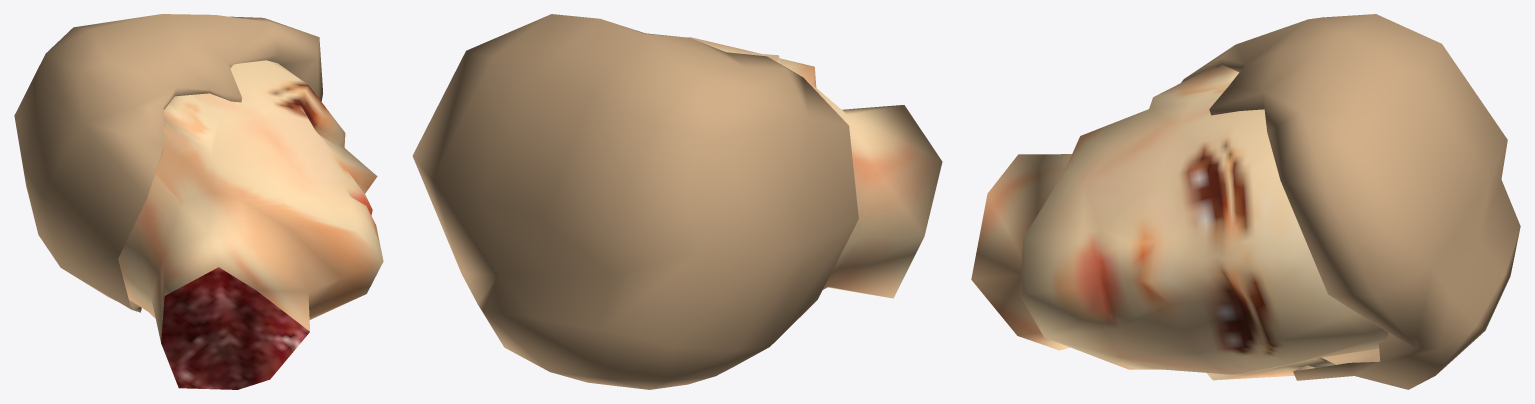
Rendered from Decap_Male_c_1.fbx.
3 views of the same model, side by side, from view 1: azimuth 30°, elevation 25°; view 2: azimuth 150°, elevation 25°; view 3: azimuth 270°, elevation 25° (orthographic). The views are drawn at different scales.
Visible parts, largest first — view 1: Male Head 1; view 2: Male Head 1; view 3: Male Head 1.
Boxes of the visible parts, <box> form: Male Head 1: <box>14,14,383,389</box>; Male Head 1: <box>412,14,942,389</box>; Male Head 1: <box>971,14,1520,389</box>.
Size of the model in its own units: 0.1648 by 0.1465 by 0.2135.
